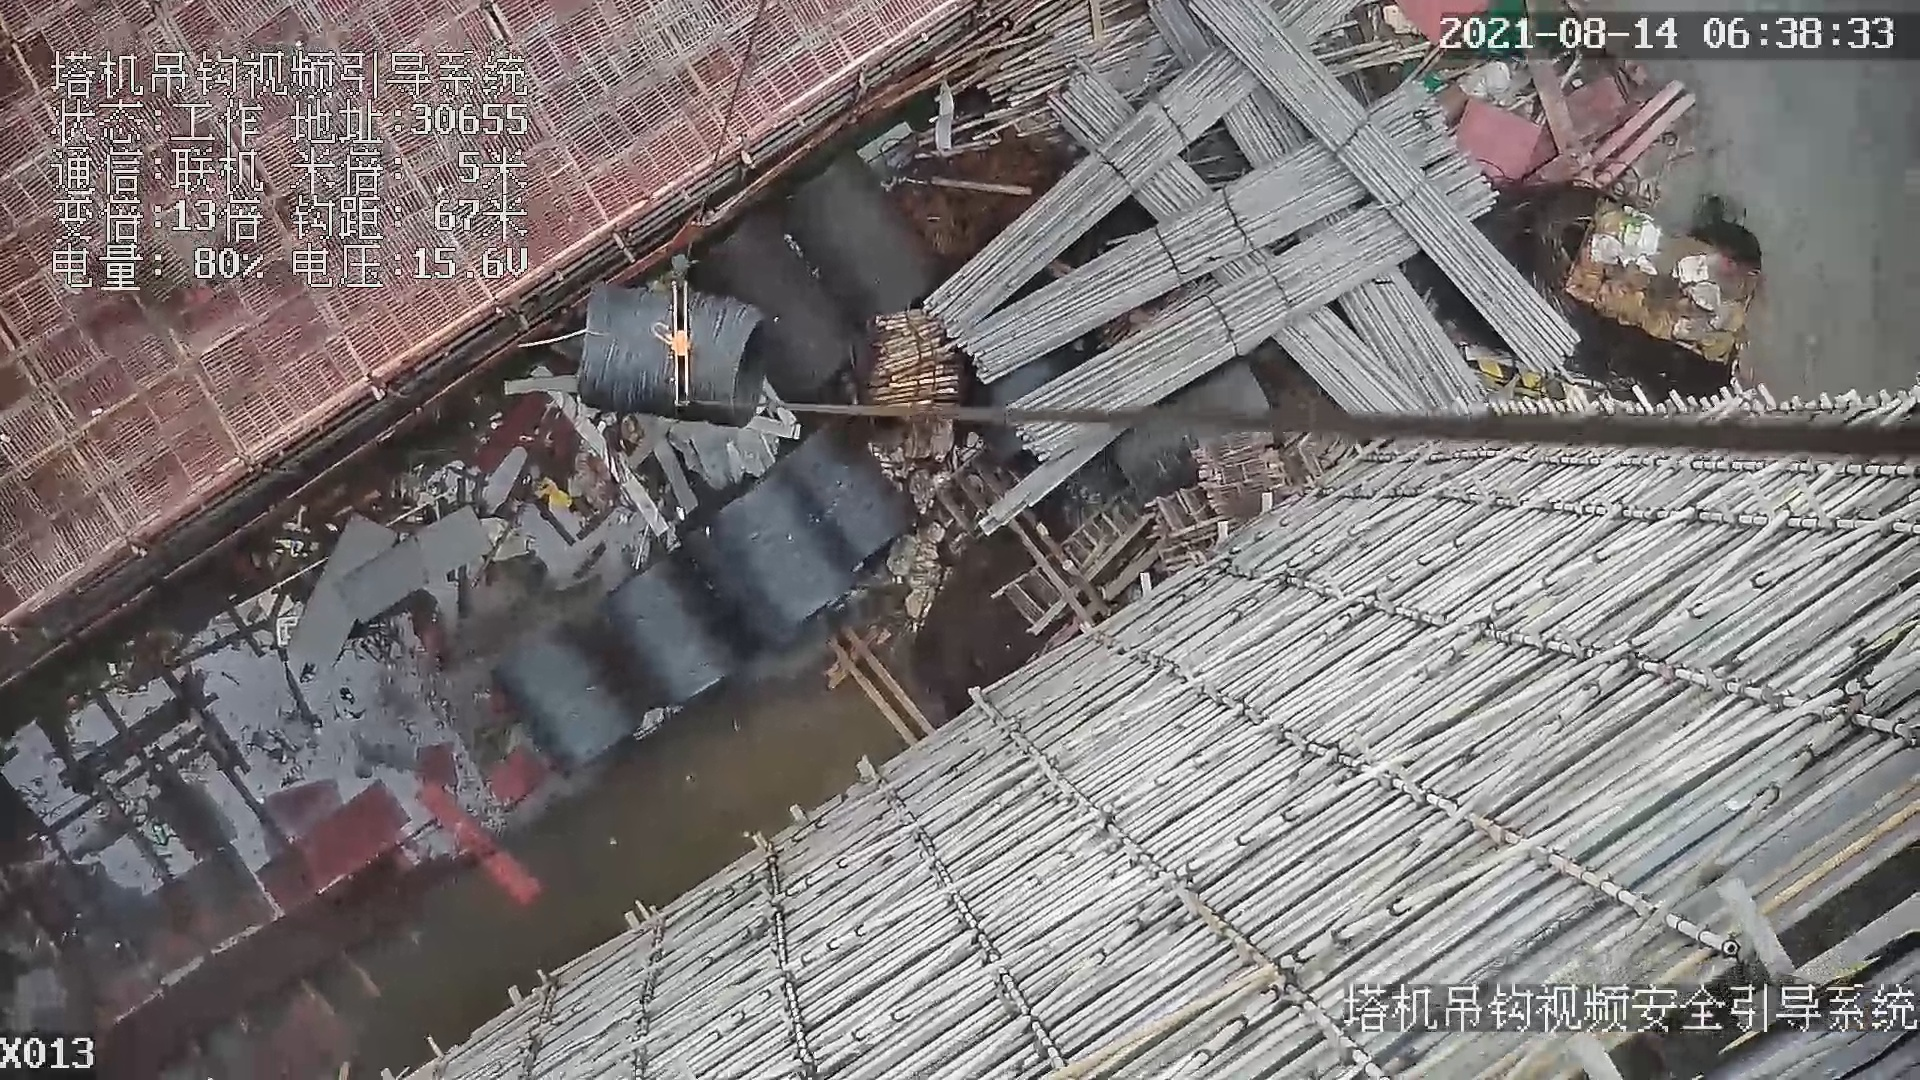hook: (651, 273, 700, 413)
